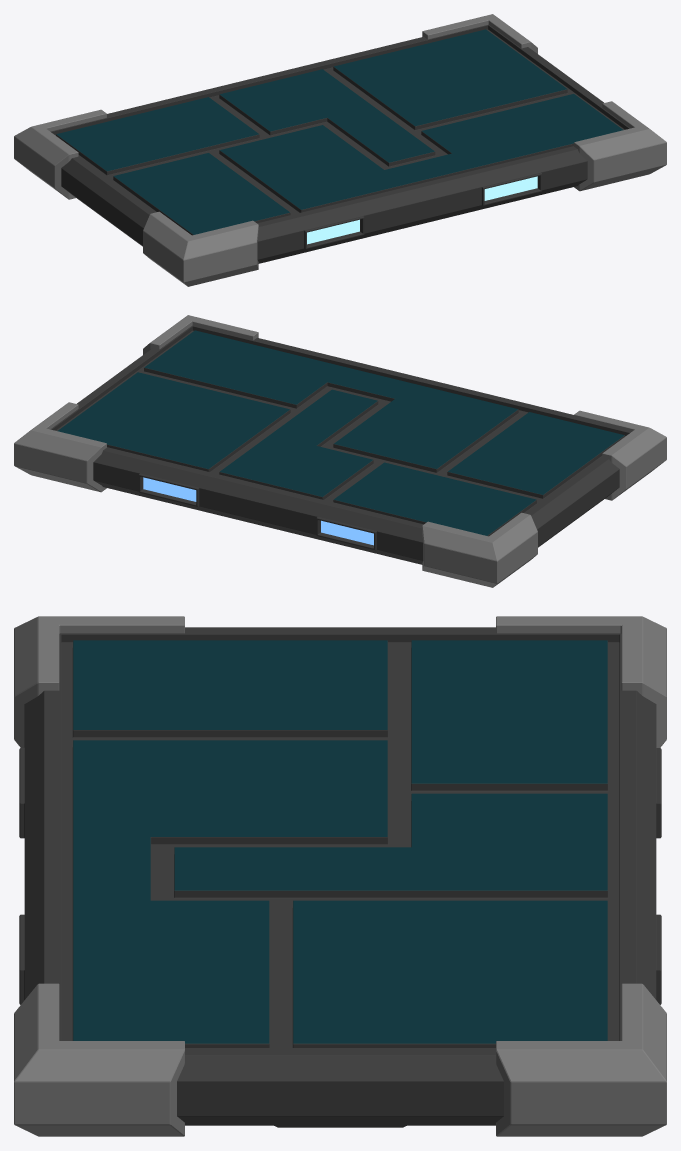
File: Plattform.glb
3 renders of one model, top to bottom at view 1: azimuth 30°, elevation 25°; view 2: azimuth 150°, elevation 25°; view 3: azimuth 270°, elevation 25°, orthographic. The views are drawn at different scales.
Visible parts, largest first — view 1: Cube.001; view 2: Cube.001; view 3: Cube.001.
Part boxes in pixels (box(x1,y1,x2,y2)): Cube.001: box(14, 14, 666, 286); Cube.001: box(14, 315, 666, 587); Cube.001: box(14, 616, 666, 1136).
Bounding box in the file's own units: 13.79 × 1.39 × 8.38.
